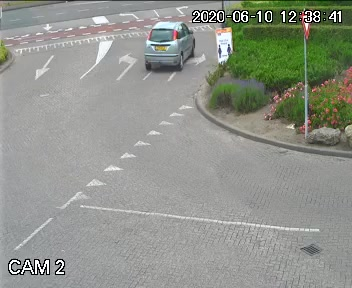car: (138, 16, 194, 78)
